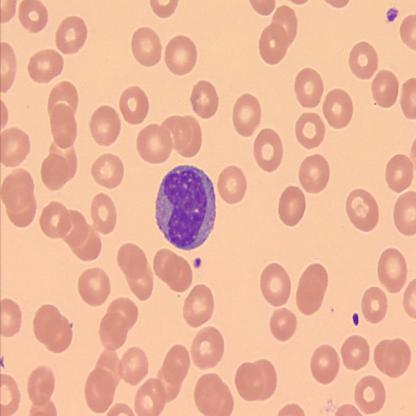Monocyte: (152, 162, 219, 252)
